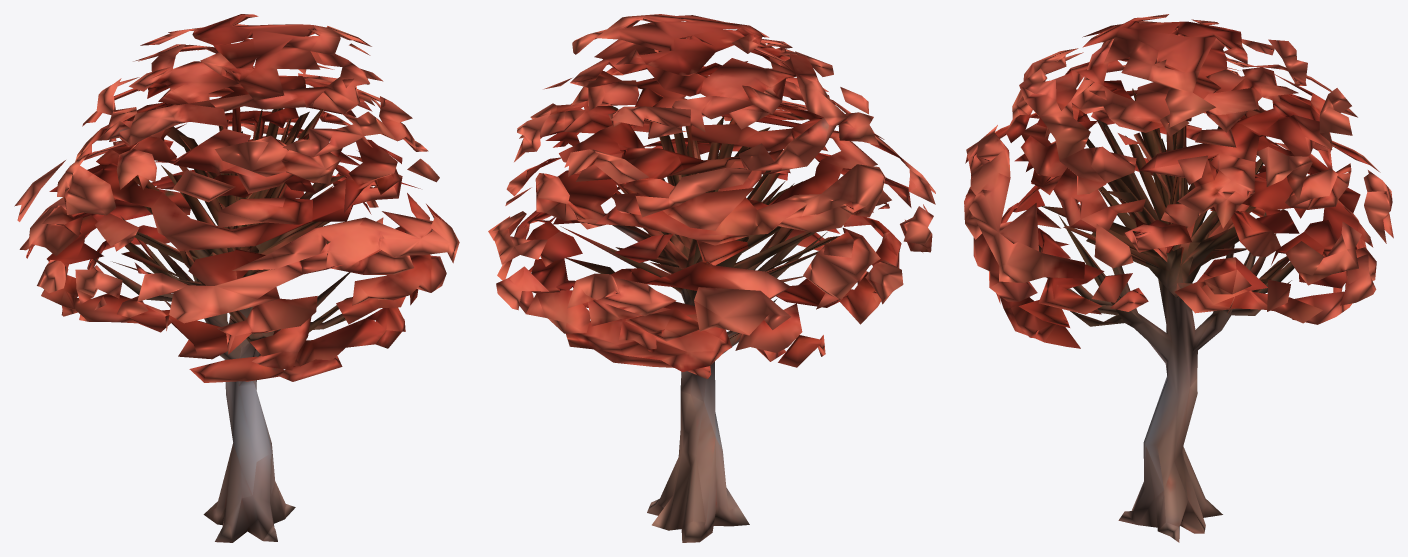
Rendered from tree_maple_momiji_lod3k.glb.
3 renders of one model, left to right at view 1: azimuth 30°, elevation 25°; view 2: azimuth 150°, elevation 25°; view 3: azimuth 270°, elevation 25°, orthographic.
Visible parts, largest first — view 1: node_0; view 2: node_0; view 3: node_0.
Part boxes in pixels (<box>): node_0: <box>14,14,459,542</box>; node_0: <box>488,14,935,542</box>; node_0: <box>964,14,1393,542</box>.
Size of the model in its own units: 3.89 by 4.92 by 3.91.
Materials: 1 (1 with a texture image).
